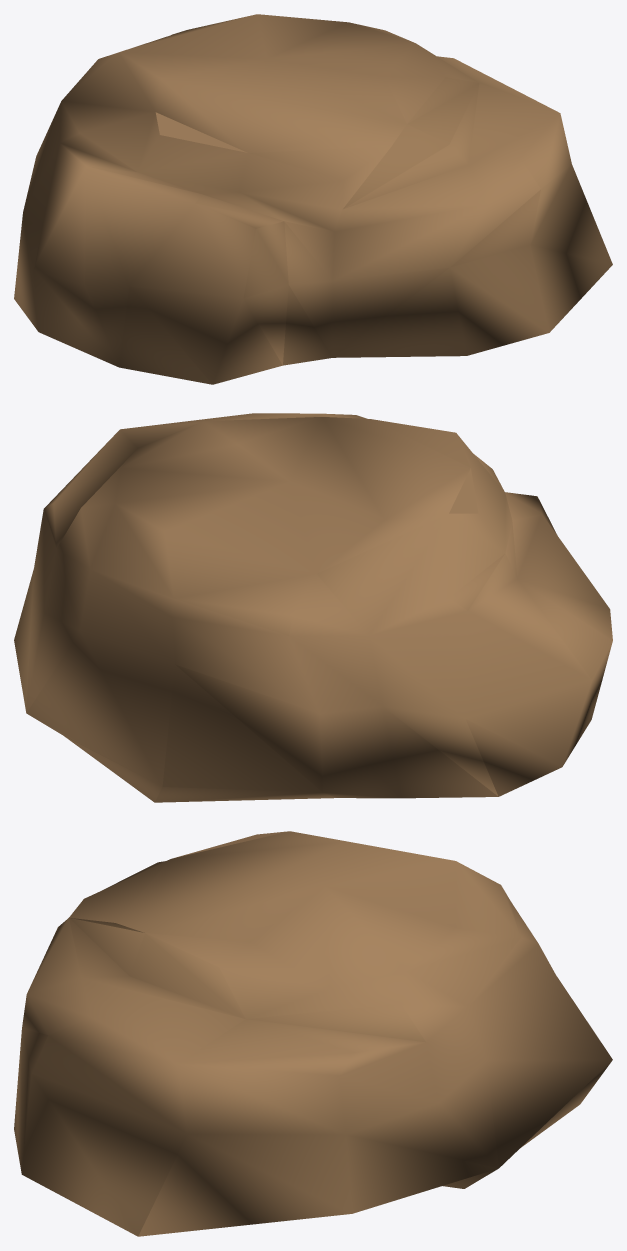
File: space-rock-1.glb
3 views of the same model, one above another, from view 1: azimuth 30°, elevation 25°; view 2: azimuth 150°, elevation 25°; view 3: azimuth 270°, elevation 25° (orthographic). The views are drawn at different scales.
Visible parts, largest first — view 1: space-rock-1; view 2: space-rock-1; view 3: space-rock-1.
Boxes of the visible parts, left/top/right/bottom form: space-rock-1: left=14, top=14, right=612, bottom=384; space-rock-1: left=14, top=413, right=612, bottom=802; space-rock-1: left=14, top=831, right=612, bottom=1236.
Size of the model in its own units: 5.6 by 2.4 by 5.36.
